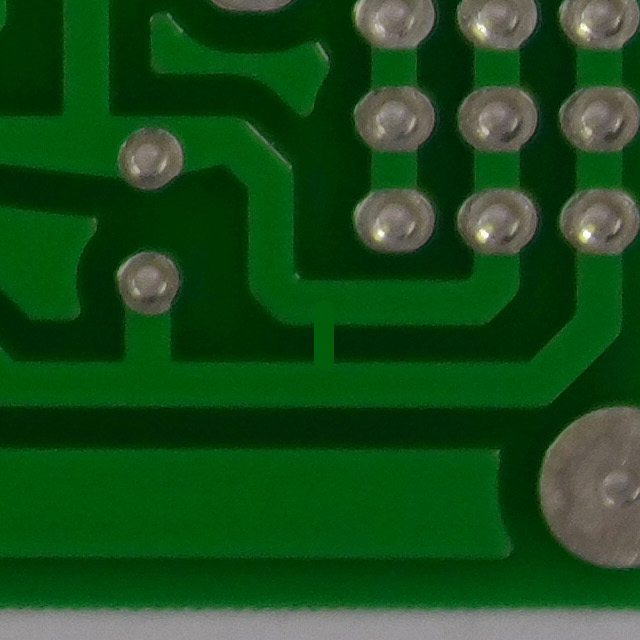short: (256, 258, 384, 409)
